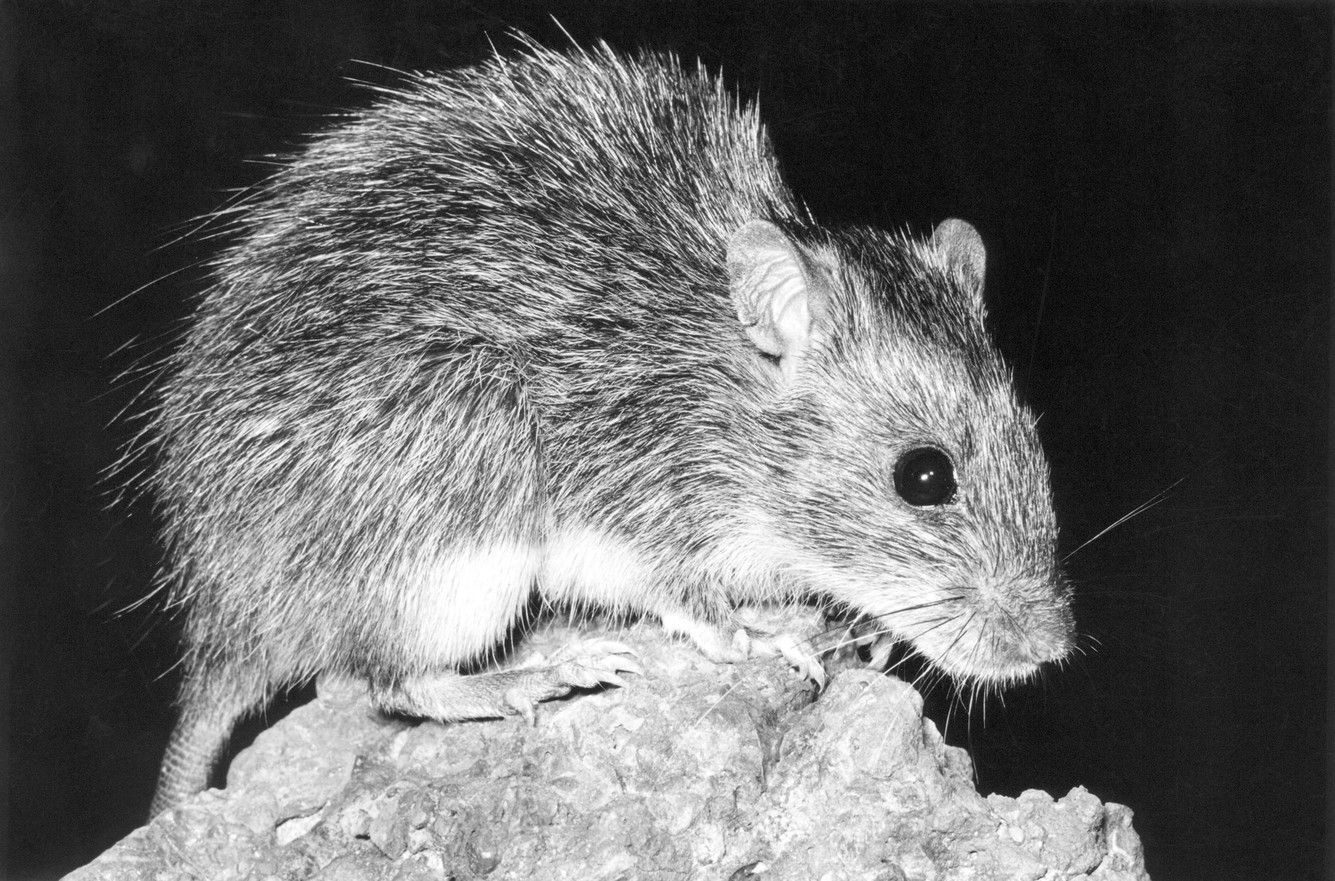rat: (154, 53, 1067, 806)
